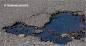Pothole: (2, 11, 86, 45)
